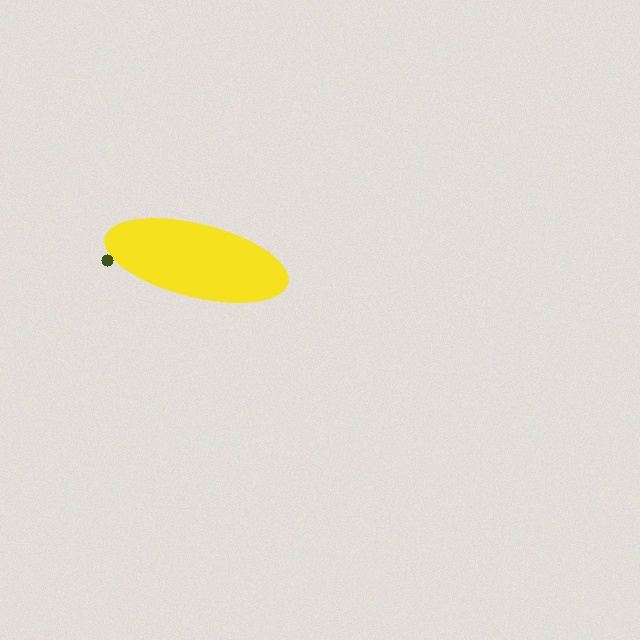Fresh banana: (98, 215, 294, 305)
